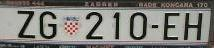-: (151, 25, 158, 28)
0: (130, 11, 146, 39)
1: (113, 12, 120, 39)
2: (86, 11, 103, 40)
E: (164, 12, 179, 40)
G: (40, 11, 56, 39)
H: (184, 13, 201, 40)
Z: (18, 11, 35, 38)
